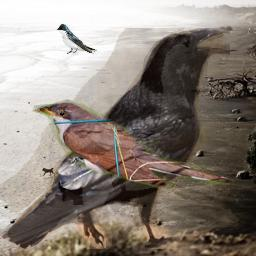Crow: (0, 28, 230, 249)
Cuckoo: (32, 97, 237, 196)
Swallow: (56, 23, 97, 55)
